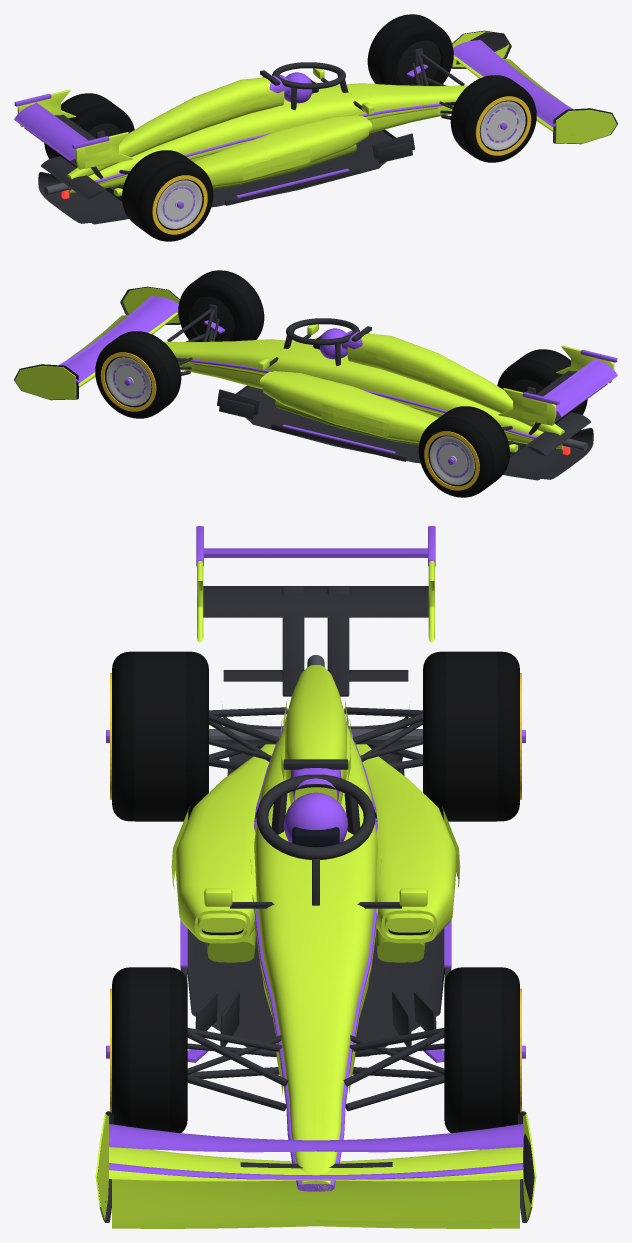
The model's file is f1-car-B.glb.
3 renders of one model, top to bottom at view 1: azimuth 30°, elevation 25°; view 2: azimuth 150°, elevation 25°; view 3: azimuth 270°, elevation 25°, orthographic. The views are drawn at different scales.
Visible parts, largest first — view 1: PW_Primary, PW_Carbon, PW_Tyre, PW_Accent, PW_TyreCrown, PW_Rim, PW_CompoundBand, PW_RimBarrel, PW_Secondary, PW_Decal_sidepod; view 2: PW_Primary, PW_Carbon, PW_Tyre, PW_Accent, PW_TyreCrown, PW_Rim, PW_CompoundBand, PW_RimBarrel, PW_Secondary, PW_Decal_sidepod, PW_Decal_floorEdge; view 3: PW_Primary, PW_Carbon, PW_TyreCrown, PW_Tyre, PW_Secondary, PW_Accent, PW_CarbonLight, PW_CompoundBand.
Boxes of the visible parts, box(x1,y1,x2,y2) form: PW_Primary: box(17, 31, 616, 196); PW_Carbon: box(24, 30, 617, 224); PW_Tyre: box(44, 14, 536, 241); PW_Accent: box(14, 39, 572, 221); PW_TyreCrown: box(47, 15, 522, 234); PW_Rim: box(157, 101, 525, 228); PW_CompoundBand: box(152, 96, 531, 234); PW_RimBarrel: box(88, 40, 440, 137); PW_Secondary: box(69, 58, 564, 190); PW_Decal_sidepod: box(243, 149, 310, 180); PW_Primary: box(15, 287, 614, 452); PW_Carbon: box(14, 286, 607, 480); PW_Tyre: box(95, 270, 587, 497); PW_Accent: box(59, 295, 617, 477); PW_TyreCrown: box(109, 271, 584, 490); PW_Rim: box(106, 357, 474, 484); PW_CompoundBand: box(100, 352, 479, 490); PW_RimBarrel: box(191, 296, 543, 393); PW_Secondary: box(67, 314, 562, 446); PW_Decal_sidepod: box(321, 404, 388, 436); PW_Decal_floorEdge: box(299, 431, 376, 454); PW_Primary: box(95, 561, 536, 1220); PW_Carbon: box(97, 586, 534, 1222); PW_TyreCrown: box(130, 651, 501, 1131); PW_Tyre: box(112, 651, 519, 1132); PW_Secondary: box(112, 920, 519, 1228); PW_Accent: box(106, 526, 525, 1191); PW_CarbonLight: box(209, 655, 422, 744); PW_CompoundBand: box(110, 673, 521, 1112).
Size of the model in its own units: 5.62 by 1.06 by 2.05.
